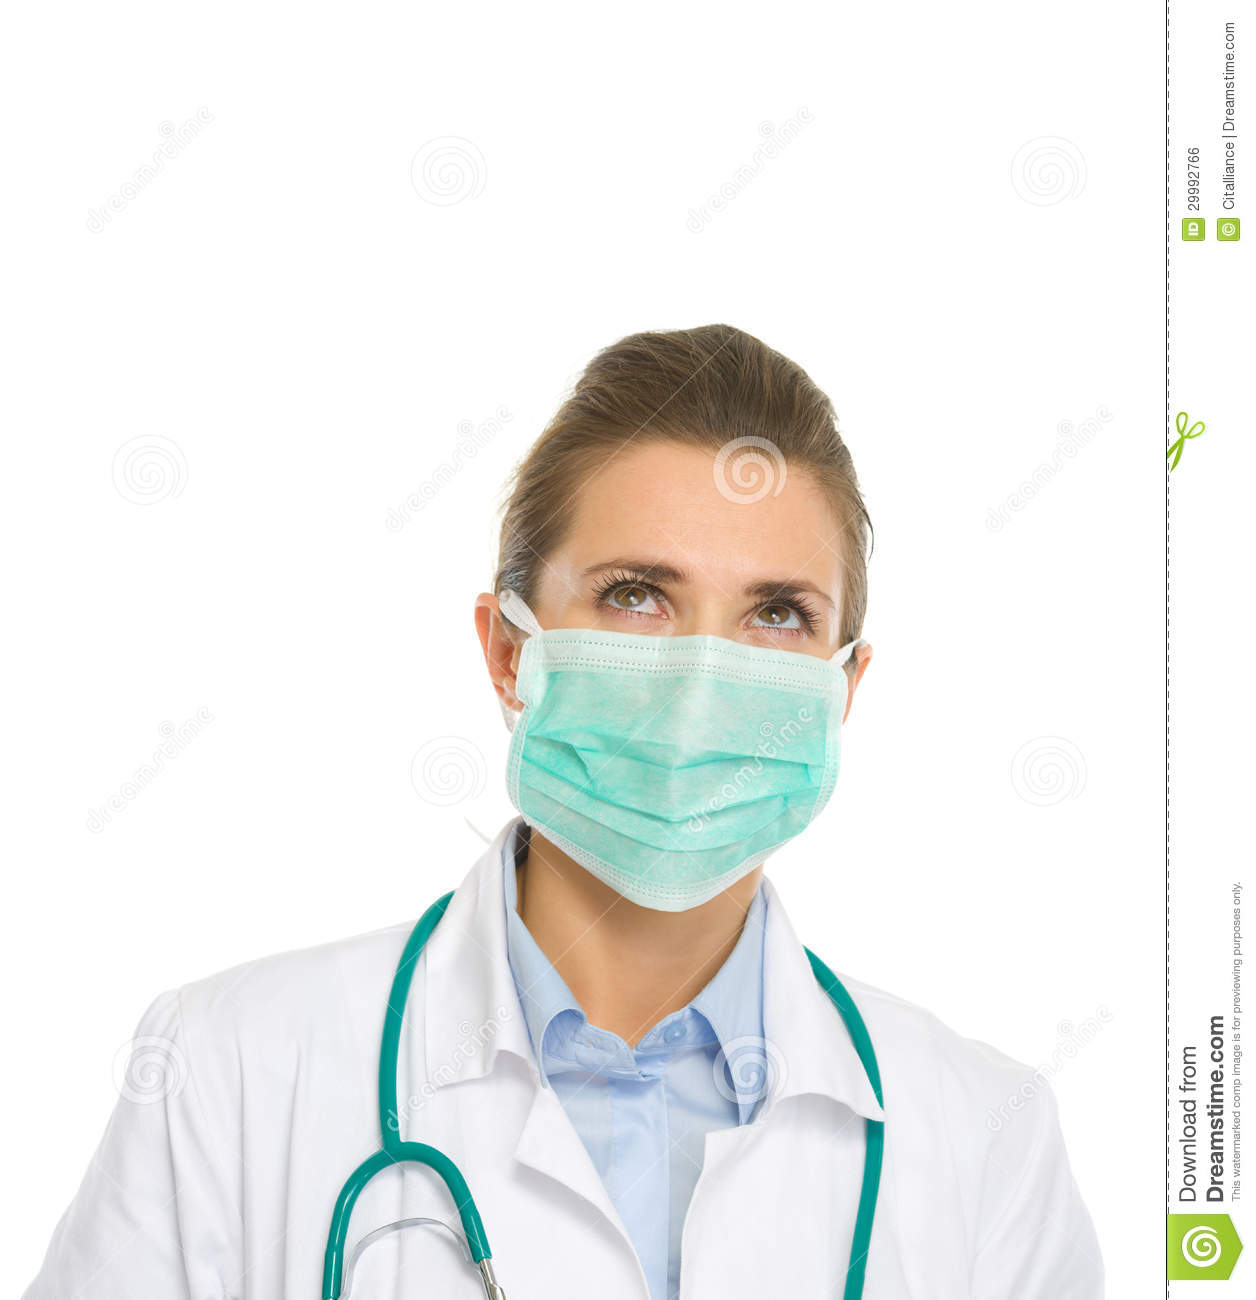mask: (504, 624, 843, 915)
